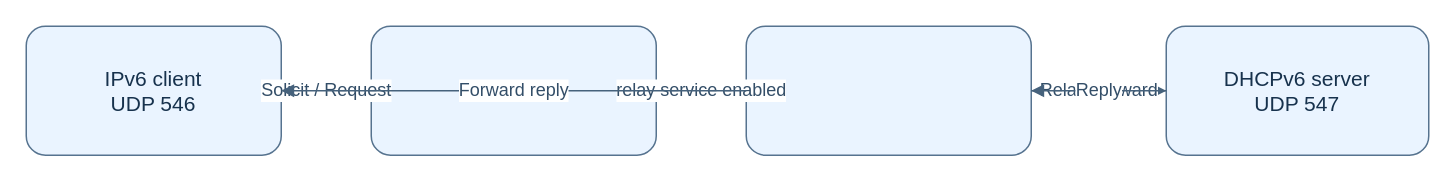
This 1455x182 diagram has some shape labels left out. The box of each missing label's shape, as (x1, y1, x2, y2) in pixels:
dhcp6r process UDP 547 listener: (745, 25, 1031, 155)
FortiGate relay interface / IPv6: (370, 25, 656, 155)
